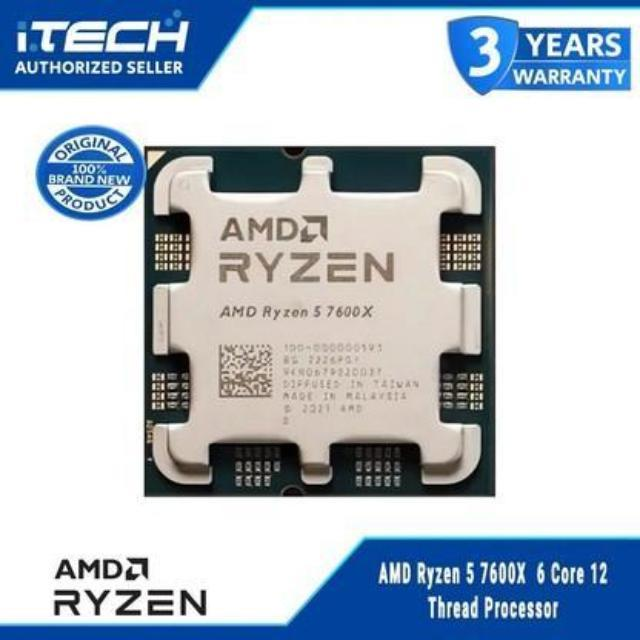CPU: (148, 148, 484, 488)
